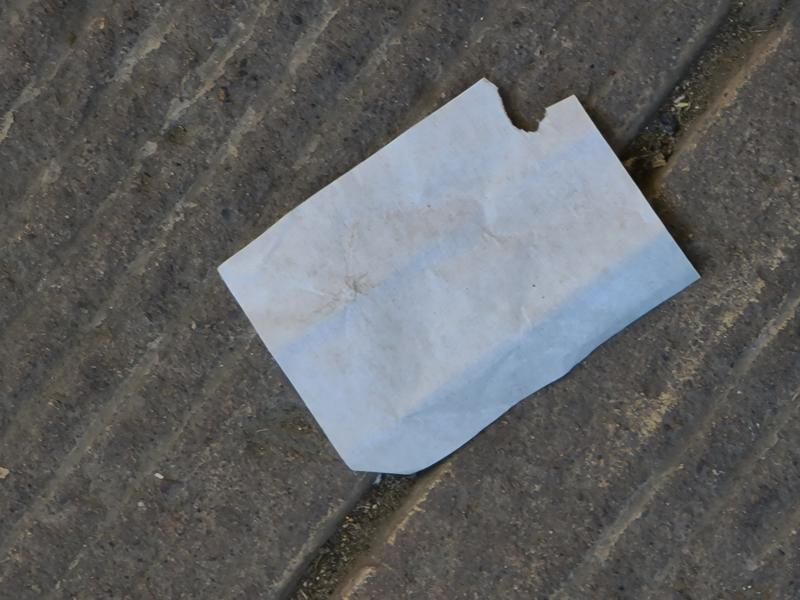papel: (216, 80, 699, 478)
